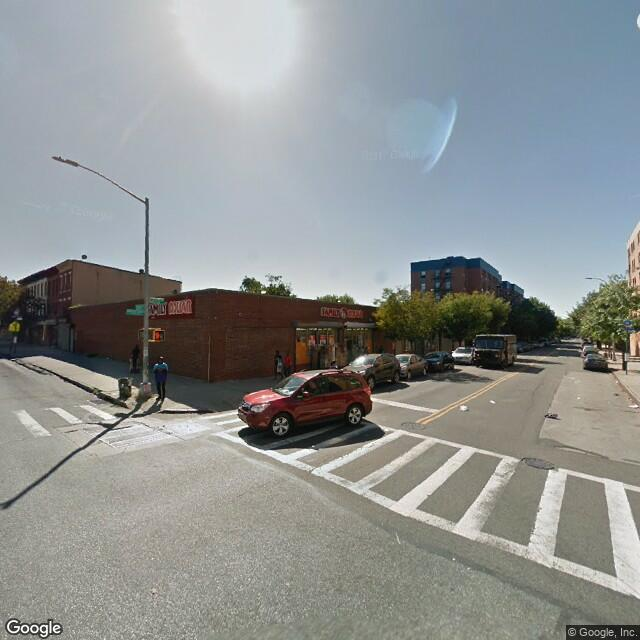litter: (543, 411, 559, 419), (458, 404, 469, 413), (626, 402, 640, 408), (487, 398, 498, 405), (574, 396, 583, 400), (616, 380, 621, 385)
